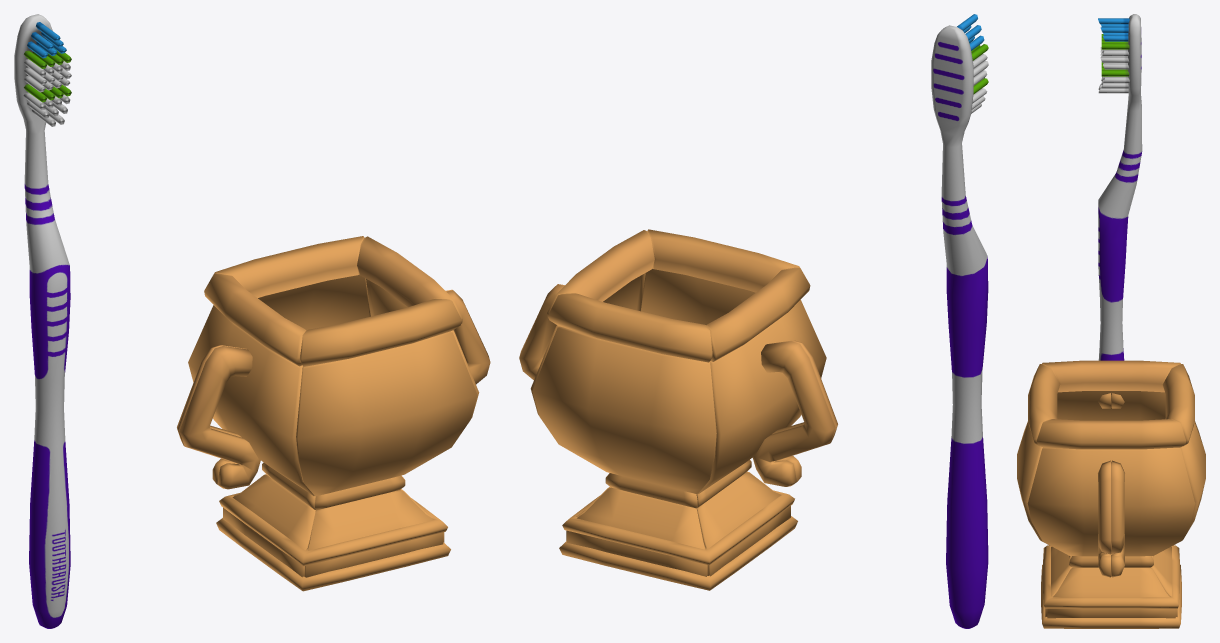
The model's file is trofeo.fbx.
The picture shows the model from 3 angles, left to right: view 1: azimuth 30°, elevation 25°; view 2: azimuth 150°, elevation 25°; view 3: azimuth 270°, elevation 25°; orthographic projection. The views are drawn at different scales.
Visible parts, largest first — view 1: Object_6, defaultMaterial, defaultMaterial.001, defaultMaterial.003, defaultMaterial.002; view 2: Object_6, defaultMaterial; view 3: Object_6, defaultMaterial, defaultMaterial.001, defaultMaterial.002, defaultMaterial.003.
Part boxes in pixels (<box>): Object_6: <box>177,236,490,591</box>; defaultMaterial: <box>14,14,70,628</box>; defaultMaterial.001: <box>23,59,71,126</box>; defaultMaterial.003: <box>24,48,71,102</box>; defaultMaterial.002: <box>27,22,66,58</box>; Object_6: <box>519,229,837,590</box>; defaultMaterial: <box>931,25,988,628</box>; Object_6: <box>1017,360,1205,628</box>; defaultMaterial: <box>1098,14,1142,360</box>; defaultMaterial.001: <box>1098,47,1129,93</box>; defaultMaterial.002: <box>1098,18,1129,41</box>; defaultMaterial.003: <box>1101,34,1129,76</box>.
Size of the model in its own units: 14745 by 18456 by 6529.
Materials: 5 (5 with a texture image).
